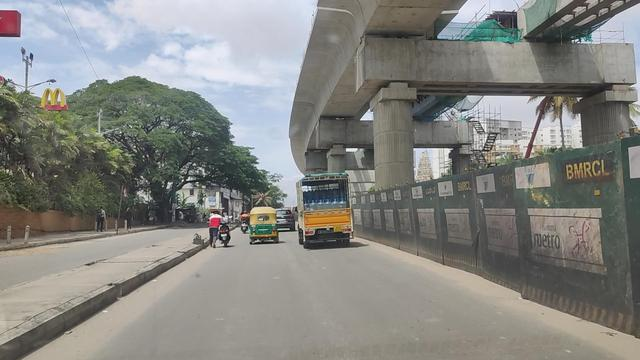HMV: (301, 170, 352, 248)
LMV: (249, 205, 281, 244)
